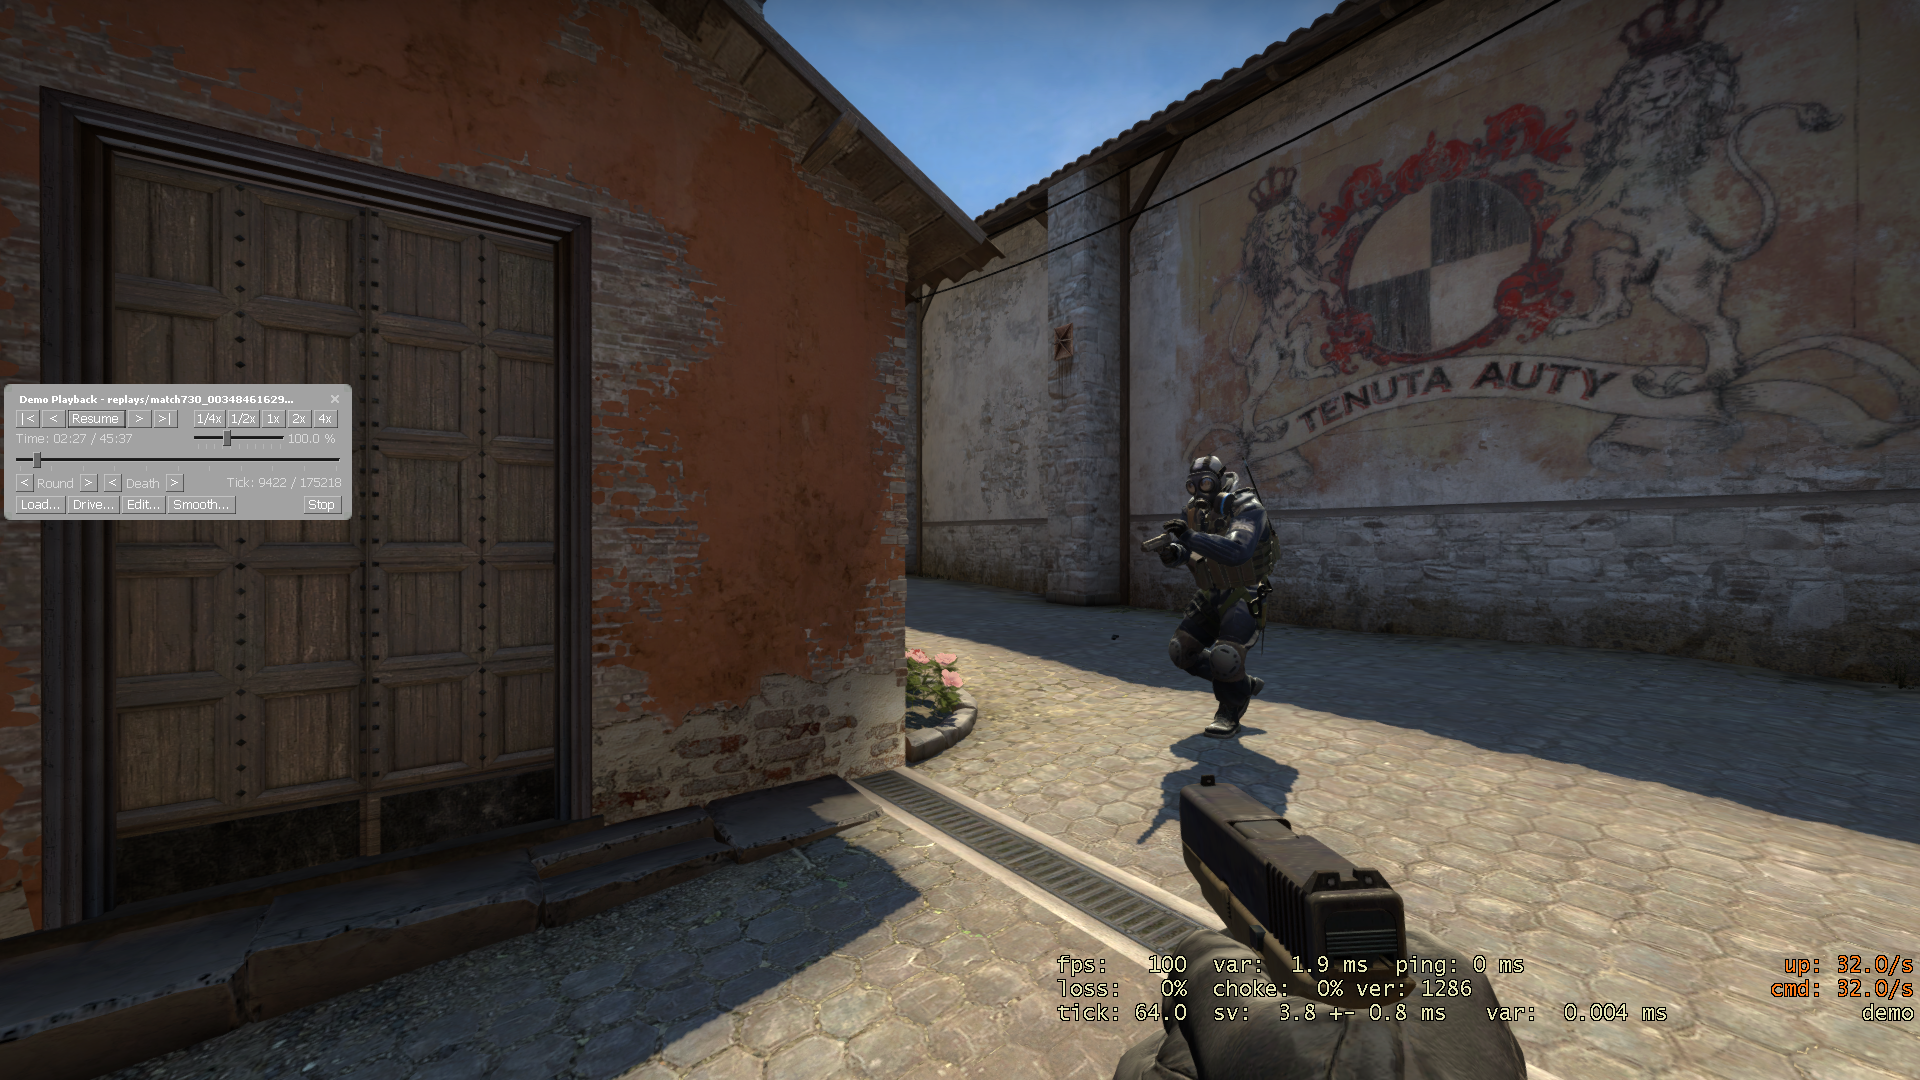ct: (1159, 456, 1275, 736)
